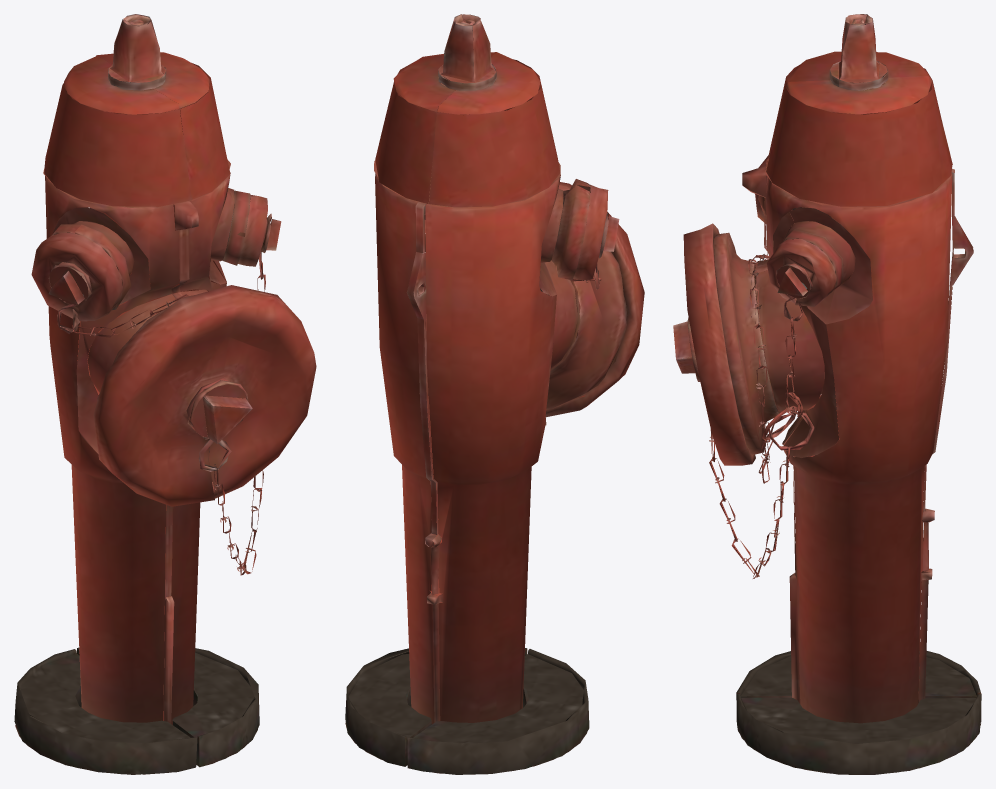
Rendered from fire_hydrant.glb.
The picture shows the model from 3 angles, left to right: view 1: azimuth 30°, elevation 25°; view 2: azimuth 150°, elevation 25°; view 3: azimuth 270°, elevation 25°; orthographic projection.
Visible parts, largest first — view 1: fire_hydrant; view 2: fire_hydrant; view 3: fire_hydrant.
Boxes of the visible parts, <box> form: fire_hydrant: <box>14,14,316,774</box>; fire_hydrant: <box>345,14,644,774</box>; fire_hydrant: <box>673,14,981,774</box>.
Size of the model in its own units: 0.2742 by 0.8003 by 0.3177.
1 material, 1 textured.
